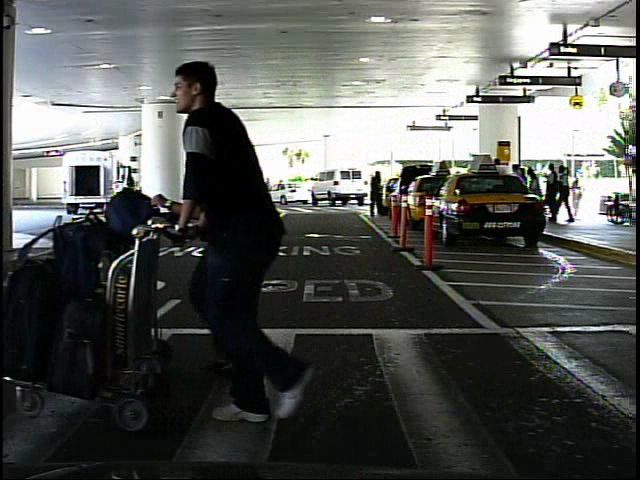person: (170, 45, 326, 424), (367, 168, 389, 223), (112, 170, 131, 216), (571, 172, 586, 219)
